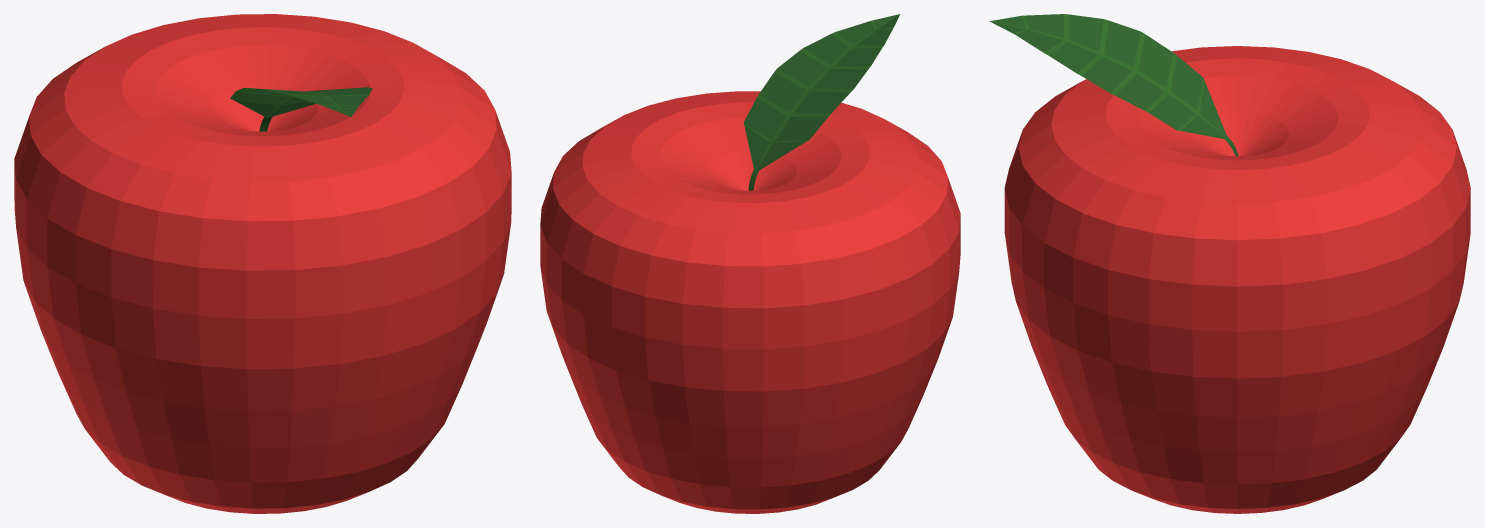
File: Apple 1.fbx
3 views of the same model, side by side, from view 1: azimuth 30°, elevation 25°; view 2: azimuth 150°, elevation 25°; view 3: azimuth 270°, elevation 25° (orthographic). The views are drawn at different scales.
Parts seen in each view (by area): view 1: Плоскость.037; view 2: Плоскость.037; view 3: Плоскость.037.
Part boxes in pixels (bbox=[...]): Плоскость.037: bbox=[14, 14, 511, 513]; Плоскость.037: bbox=[540, 14, 960, 513]; Плоскость.037: bbox=[989, 14, 1470, 513].
Bounding box in the file's own units: 177 × 178 × 183.
